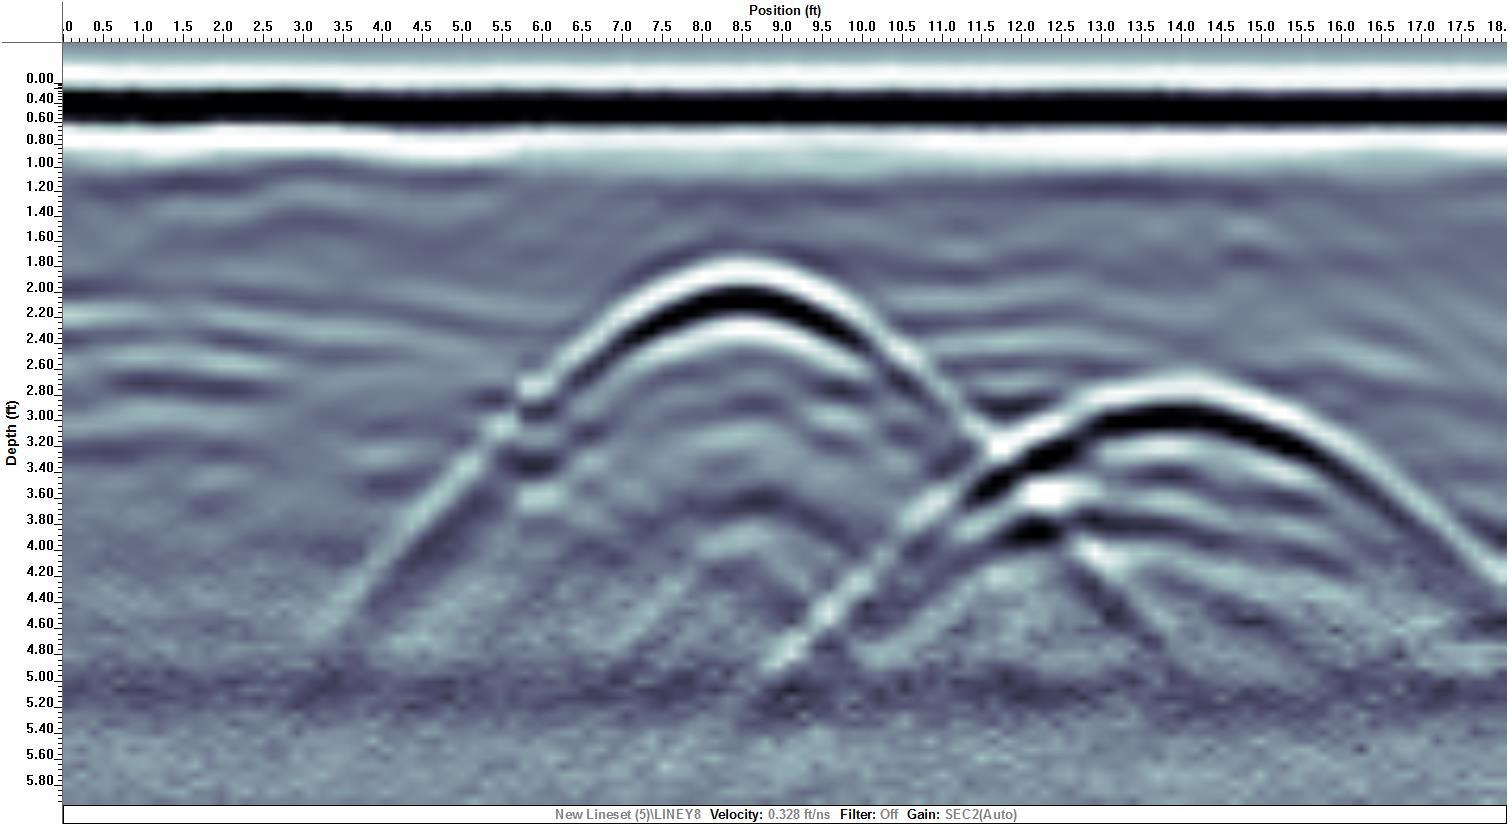hyperbola: (914, 346, 1455, 574), (486, 230, 980, 444)
